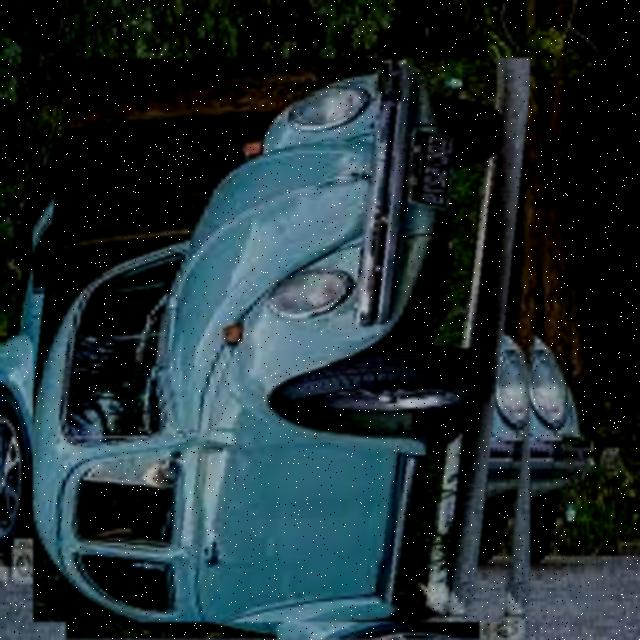car: (34, 92, 564, 623)
